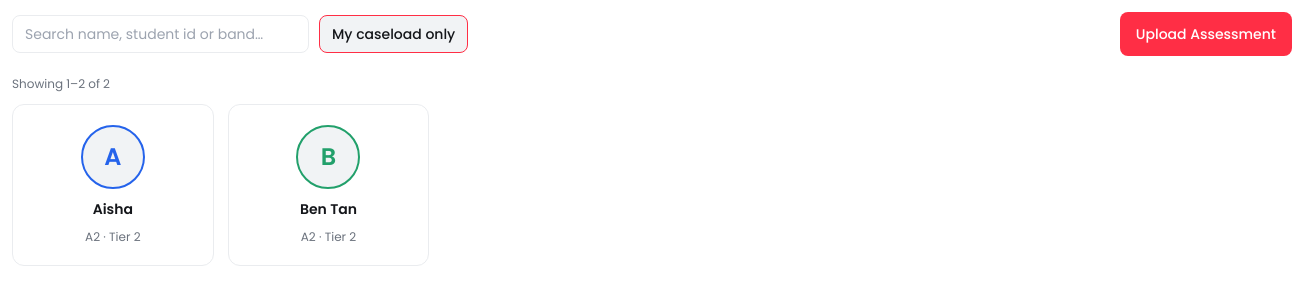
it: filters the visible list as the user types in the search box
Expected: the text "Aisha" is shown, x1=93 y1=199 x2=133 y2=219
Type "Cara" into the field named "Search learners" at coordinates (160, 34), box x1=25 y1=24 x2=296 y2=44
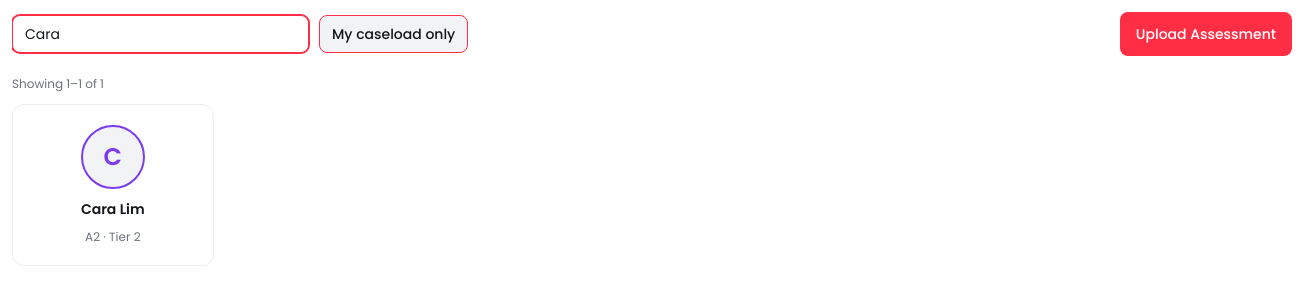
Result: the text "Cara Lim" is shown at x1=81 y1=199 x2=145 y2=219
Result: the text "Aisha" is gone
